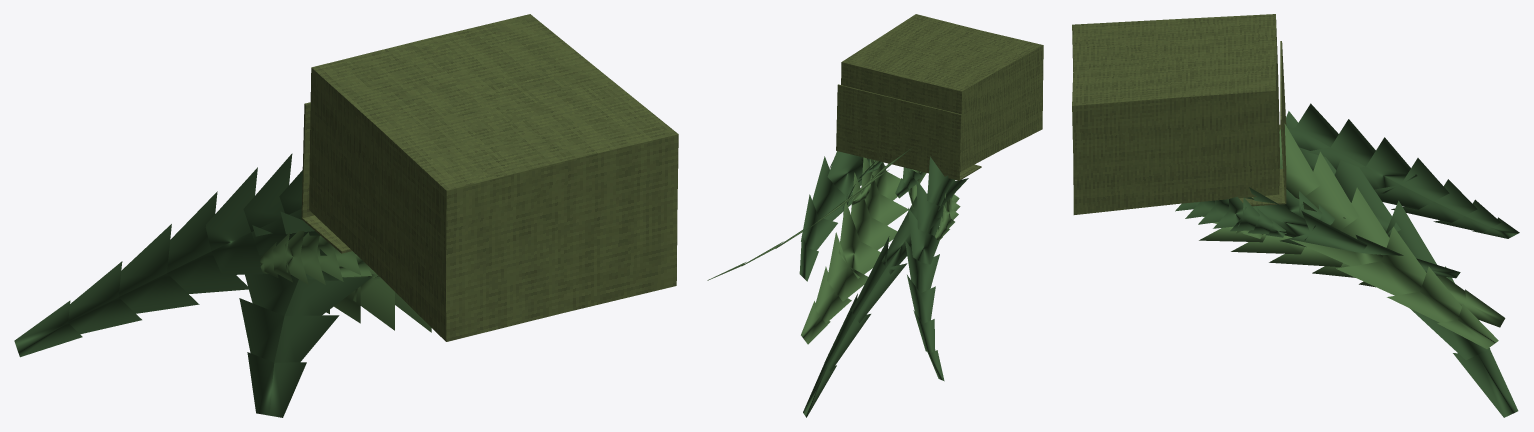
File: pack_ruck_light_foliage.glb
3 views of the same model, side by side, from view 1: azimuth 30°, elevation 25°; view 2: azimuth 150°, elevation 25°; view 3: azimuth 270°, elevation 25° (orthographic). The views are drawn at different scales.
Visible parts, largest first — view 1: pack_ruck_light_foliage, pack_ruck_light_foliage_sprig_6, pack_ruck_light_foliage_sprig_11, pack_ruck_light_foliage_sprig_2, pack_ruck_light_foliage_sprig_10; view 2: pack_ruck_light_foliage, pack_ruck_light_foliage_sprig_10, pack_ruck_light_foliage_sprig_6, pack_ruck_light_foliage_sprig_11, pack_ruck_light_foliage_sprig_0, pack_ruck_light_foliage_sprig_4, pack_ruck_light_foliage_sprig_2, pack_ruck_light_foliage_sprig_12; view 3: pack_ruck_light_foliage, pack_ruck_light_foliage_sprig_4, pack_ruck_light_foliage_sprig_6, pack_ruck_light_foliage_sprig_11, pack_ruck_light_foliage_sprig_10, pack_ruck_light_foliage_sprig_0, pack_ruck_light_foliage_sprig_9, pack_ruck_light_foliage_sprig_8.
Boxes of the visible parts, x1,y1,x2,y2 form: pack_ruck_light_foliage: (301,14,678,341); pack_ruck_light_foliage_sprig_6: (14,153,326,357); pack_ruck_light_foliage_sprig_11: (239,211,371,417); pack_ruck_light_foliage_sprig_2: (260,231,360,284); pack_ruck_light_foliage_sprig_10: (326,274,431,332); pack_ruck_light_foliage: (836,14,1043,180); pack_ruck_light_foliage_sprig_10: (801,157,908,344); pack_ruck_light_foliage_sprig_6: (905,156,955,381); pack_ruck_light_foliage_sprig_11: (803,178,968,417); pack_ruck_light_foliage_sprig_0: (799,151,885,281); pack_ruck_light_foliage_sprig_4: (707,146,913,280); pack_ruck_light_foliage_sprig_2: (934,193,960,240); pack_ruck_light_foliage_sprig_12: (895,167,923,198); pack_ruck_light_foliage: (1072,14,1286,214); pack_ruck_light_foliage_sprig_4: (1279,123,1498,348); pack_ruck_light_foliage_sprig_6: (1288,103,1519,238); pack_ruck_light_foliage_sprig_11: (1286,111,1518,417); pack_ruck_light_foliage_sprig_10: (1199,202,1505,327); pack_ruck_light_foliage_sprig_0: (1244,187,1460,278); pack_ruck_light_foliage_sprig_9: (1175,196,1285,237); pack_ruck_light_foliage_sprig_8: (1281,189,1334,233).
Bounding box in the file's own units: 0.6584 × 0.7037 × 0.7974.
2 materials, 2 textured.
